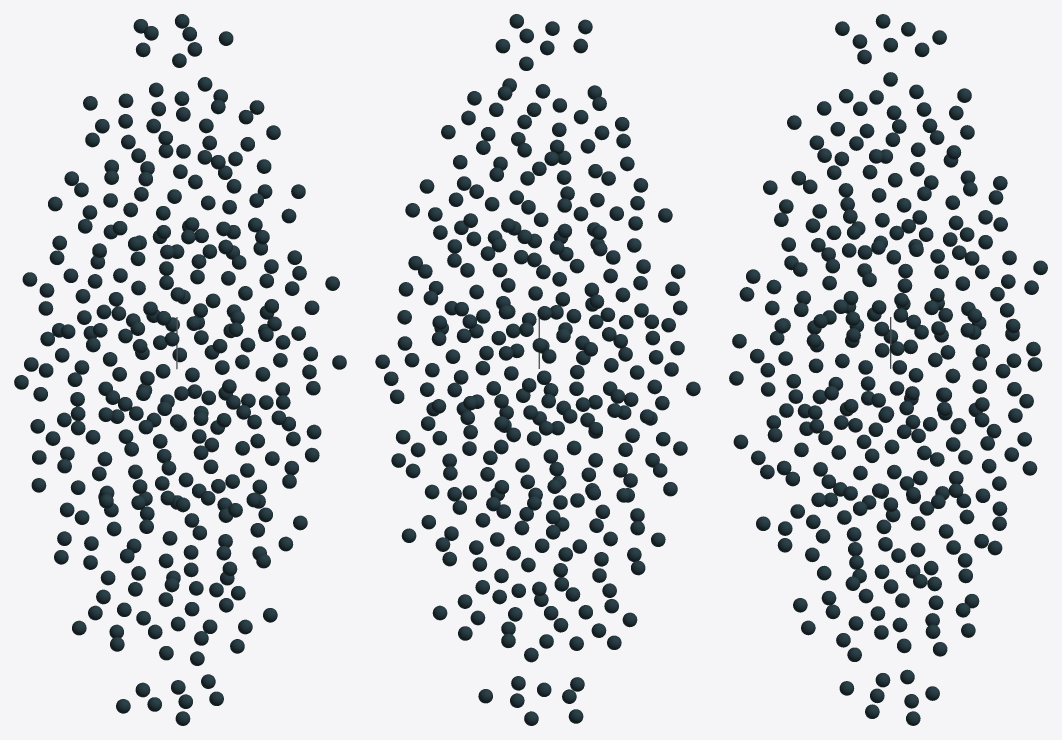
The model's file is neural-net.glb.
3 renders of one model, left to right at view 1: azimuth 30°, elevation 25°; view 2: azimuth 150°, elevation 25°; view 3: azimuth 270°, elevation 25°, orthographic.
Bounding box in the file's own units: 5.6 × 13.18 × 5.64.
